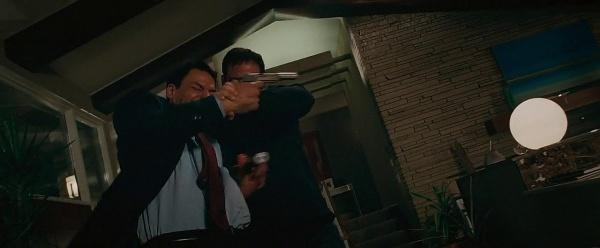Gun: (240, 70, 298, 93)
